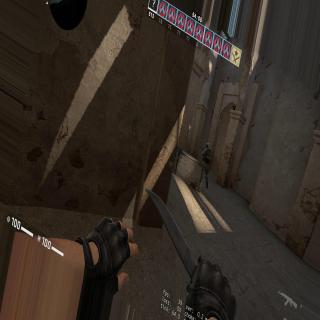CT-Body: (201, 138, 211, 186)
CT-Head: (206, 142, 210, 150)
